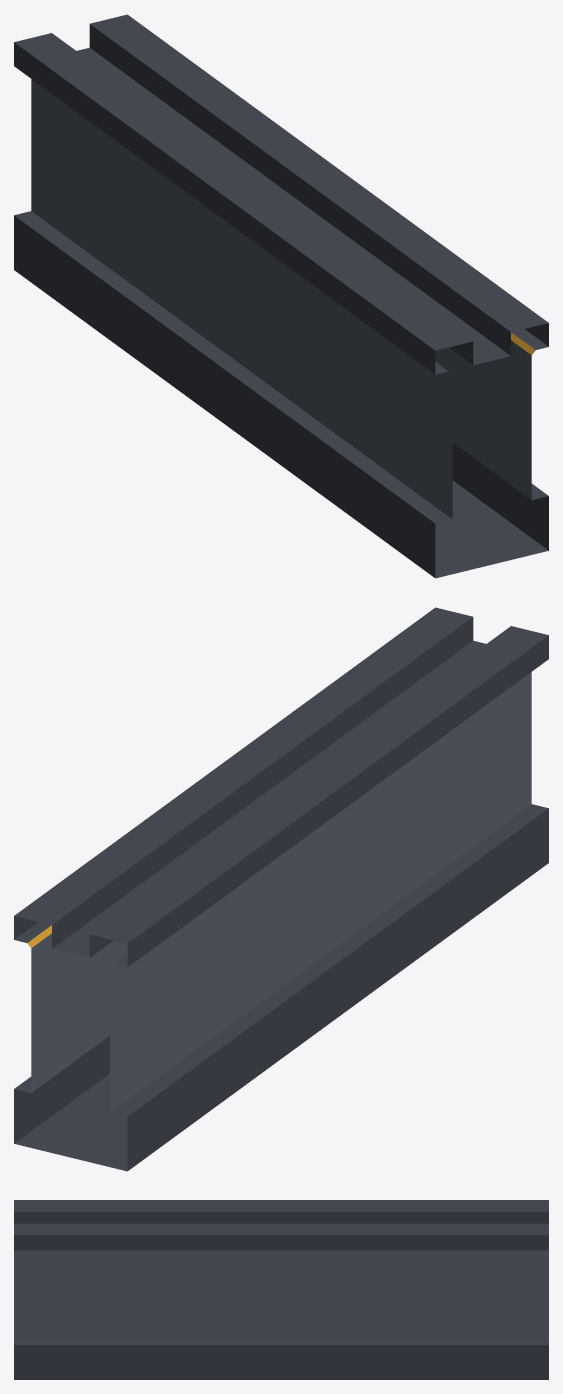
Rendered from SkyTrain_Rail_01_Straight.FBX.
3 views of the same model, one above another, from view 1: azimuth 30°, elevation 25°; view 2: azimuth 150°, elevation 25°; view 3: azimuth 270°, elevation 25° (orthographic). The views are drawn at different scales.
Visible parts, largest first — view 1: SkyTrain_Rail_01_Straight; view 2: SkyTrain_Rail_01_Straight; view 3: SkyTrain_Rail_01_Straight.
Boxes of the visible parts, x1,y1,x2,y2 form: SkyTrain_Rail_01_Straight: (14,14,548,578); SkyTrain_Rail_01_Straight: (14,607,548,1171); SkyTrain_Rail_01_Straight: (14,1200,548,1379).
Bounding box in the file's own units: 56.12 × 108 × 361.
